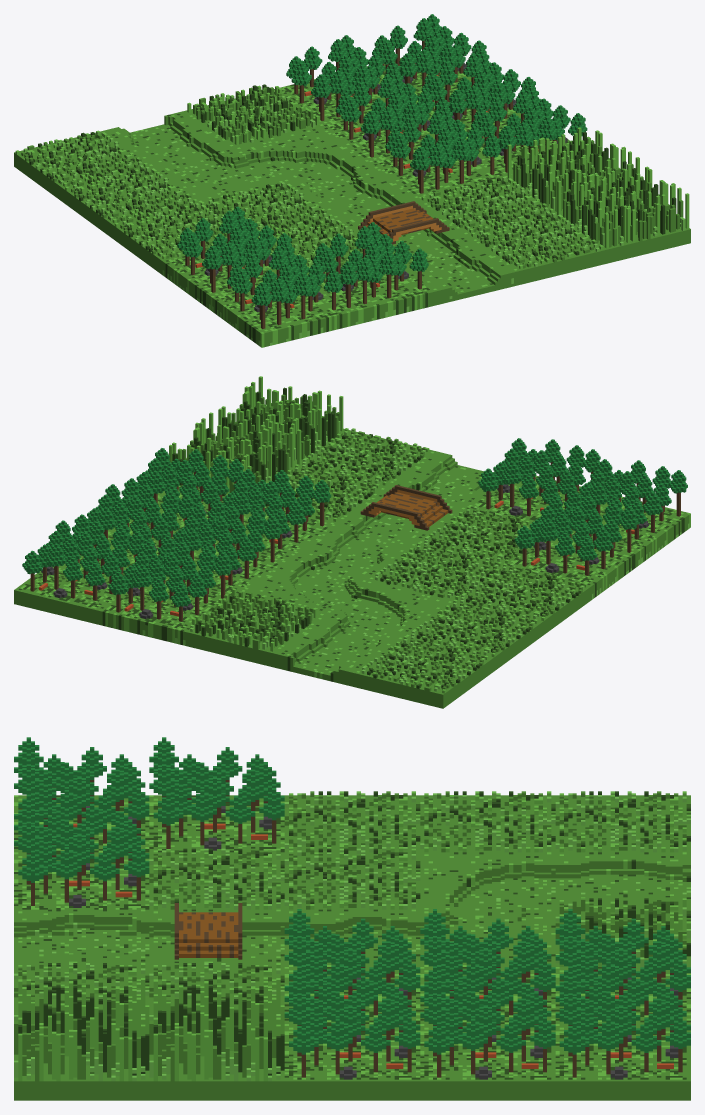
Rendered from GrassMap.fbx.
3 renders of one model, top to bottom at view 1: azimuth 30°, elevation 25°; view 2: azimuth 150°, elevation 25°; view 3: azimuth 270°, elevation 25°, orthographic. The views are drawn at different scales.
Visible parts, largest first — view 1: Plaines Map-48, Plaines Map-3, Plaines Map-46, Plaines Map-20, Plaines Map-47, Plaines Map-2, Plaines Map-36, Plaines Map-21, Plaines Map-18, Plaines Map-41, Plaines Map-40, Plaines Map-22 (+13 smaller); view 2: Plaines Map-18, Plaines Map-47, Plaines Map-16.001, Plaines Map-48, Plaines Map-40, Plaines Map-46, Plaines Map-22, Plaines Map-20, Plaines Map-21, Plaines Map-3, Plaines Map-35, Plaines Map-41 (+13 smaller); view 3: Plaines Map-19, Plaines Map-16.001, Plaines Map-16, Plaines Map-2, Plaines Map-3, Plaines Map-46, Plaines Map-47, Plaines Map-34, Plaines Map-39, Plaines Map-20, Plaines Map-48, Plaines Map-21 (+13 smaller).
Boxes of the visible parts, x1,y1,x2,y2 form: Plaines Map-48: (212,243,347,347); Plaines Map-3: (556,163,690,263); Plaines Map-46: (306,222,433,326); Plaines Map-20: (371,107,504,198); Plaines Map-47: (162,206,291,311); Plaines Map-2: (506,127,639,213); Plaines Map-36: (470,213,604,284); Plaines Map-21: (321,71,450,161); Plaines Map-18: (274,35,400,125); Plaines Map-41: (63,167,197,238); Plaines Map-40: (14,130,147,202); Plaines Map-22: (186,84,320,146); Plaines Map-18: (100,541,231,645); Plaines Map-47: (507,495,641,599); Plaines Map-16.001: (14,520,144,624); Plaines Map-48: (564,459,690,563); Plaines Map-40: (357,636,492,708); Plaines Map-46: (471,438,600,522); Plaines Map-22: (185,588,320,666); Plaines Map-20: (207,469,333,559); Plaines Map-21: (158,505,284,594); Plaines Map-3: (217,376,344,464); Plaines Map-35: (271,616,403,687); Plaines Map-41: (408,599,542,672); Plaines Map-19: (284,966,420,1100); Plaines Map-16.001: (555,966,690,1100); Plaines Map-16: (420,966,555,1100); Plaines Map-2: (149,978,284,1100); Plaines Map-3: (14,978,149,1100); Plaines Map-46: (14,794,149,909); Plaines Map-47: (149,737,284,852); Plaines Map-34: (420,852,555,921); Plaines Map-39: (284,848,420,909); Plaines Map-20: (284,909,420,1023); Plaines Map-48: (14,737,149,852); Plaines Map-21: (420,909,555,1023).
Bounding box in the file's own units: 1600 × 210 × 1600.
